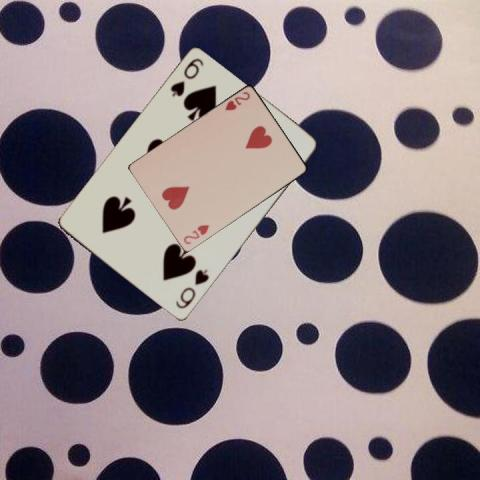2h: (180, 222, 210, 246), (222, 88, 251, 112)
6s: (172, 267, 211, 310), (168, 55, 206, 99)
